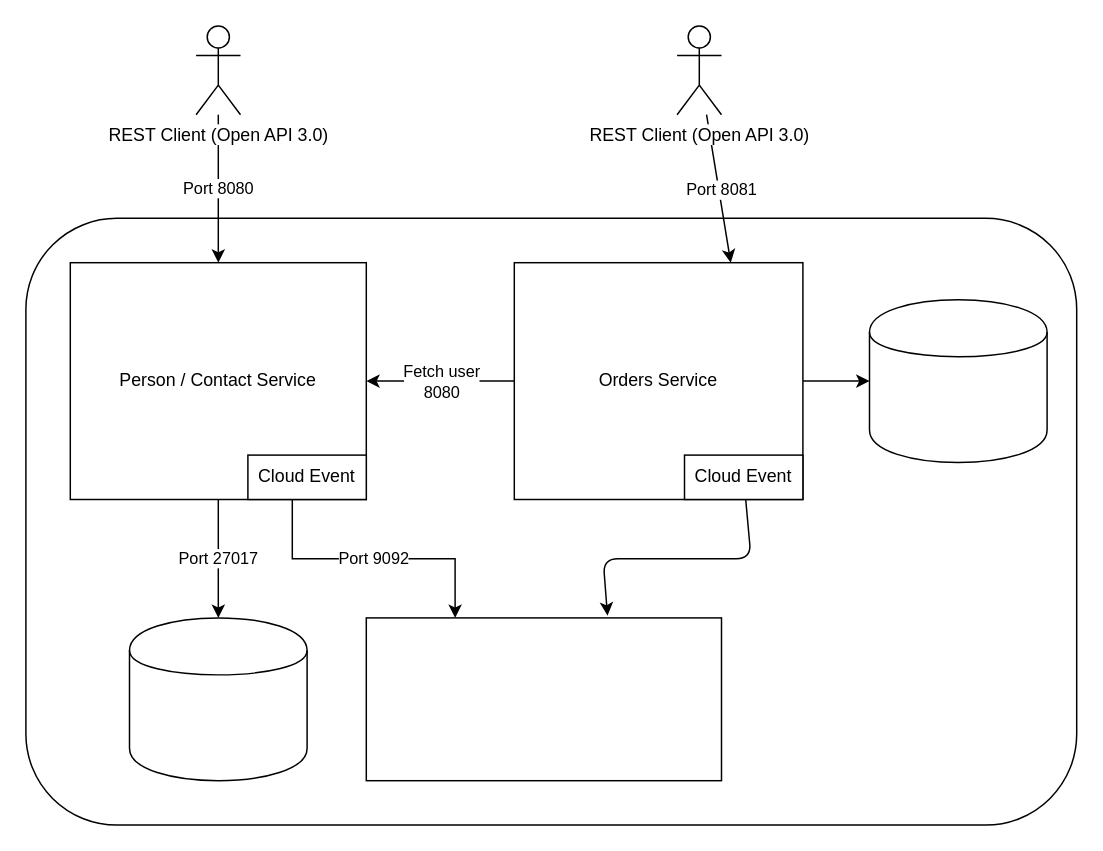
The diagram is 1103 pixels wide and 851 high, and some of its shapes have lost their labels. The centre of each missing label's shape, as x and y in pixels:
"Kafka / Zookeeper" goes at point (543, 698).
"Mongo DB" goes at point (217, 698).
"SQLite" goes at point (957, 380).
